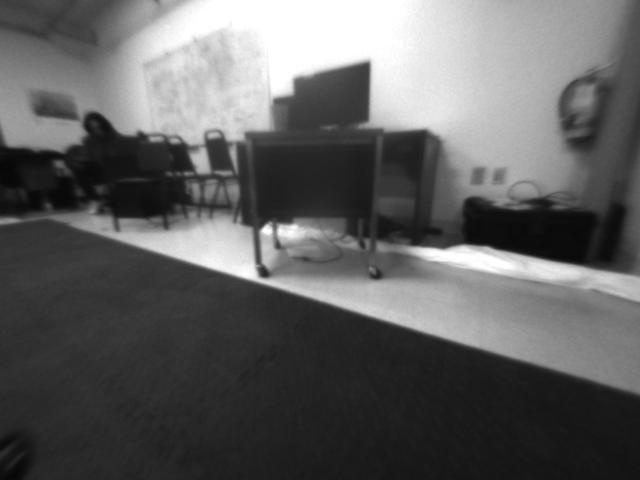coffee_cup: (267, 103, 290, 130)
